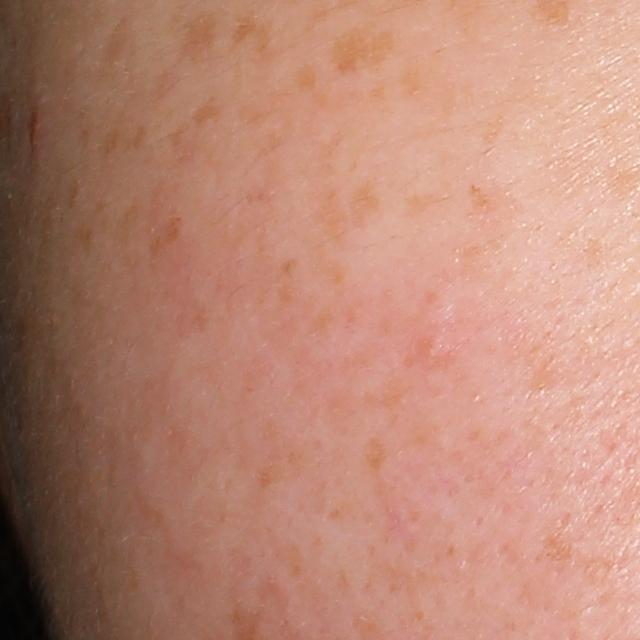melasma: (333, 29, 400, 73), (230, 11, 276, 57), (459, 181, 504, 226)
papule: (24, 100, 49, 156)
